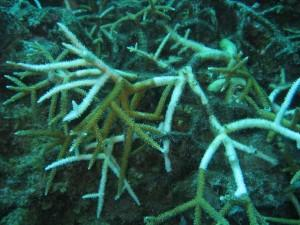bleached_corals: (44, 152, 94, 171)
